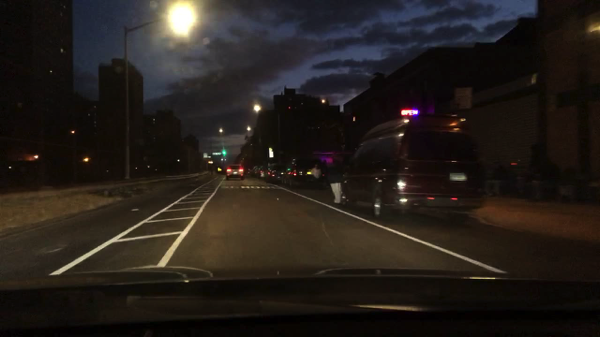car: (340, 113, 487, 225), (311, 151, 353, 191), (280, 158, 324, 189), (48, 156, 91, 183), (11, 160, 52, 187), (1, 157, 20, 188), (263, 163, 287, 183), (225, 166, 245, 181), (255, 165, 265, 179), (247, 165, 258, 177)
person: (526, 143, 559, 200), (324, 158, 343, 206), (489, 165, 509, 197), (309, 162, 323, 191)
traffic sign: (455, 86, 472, 109), (268, 147, 274, 159), (212, 151, 222, 156), (204, 153, 212, 159), (214, 169, 222, 172)
